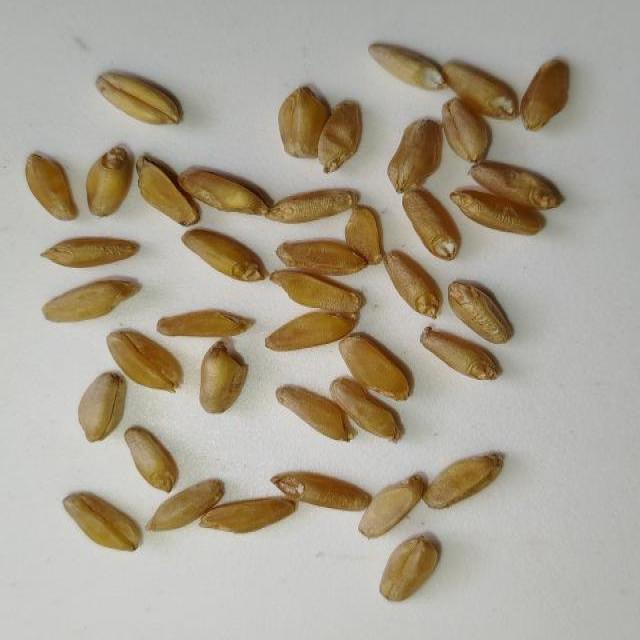wheat_grain: (340, 333, 410, 399), (469, 160, 563, 209), (107, 331, 182, 391), (64, 492, 141, 550), (423, 453, 503, 508), (331, 377, 401, 439), (183, 228, 264, 281), (96, 72, 180, 123), (450, 189, 544, 234), (138, 155, 198, 225), (442, 61, 516, 117), (178, 168, 268, 214), (276, 386, 353, 439), (43, 279, 140, 321), (421, 327, 498, 379), (359, 475, 423, 537), (403, 189, 459, 259), (270, 270, 363, 312), (449, 281, 512, 343), (147, 479, 223, 530), (271, 471, 370, 510), (387, 119, 439, 191), (385, 251, 441, 317), (380, 536, 438, 598), (279, 87, 329, 157), (369, 45, 446, 89), (125, 426, 177, 491), (200, 341, 247, 412), (26, 153, 76, 219), (201, 497, 295, 532), (265, 312, 356, 348), (521, 59, 567, 130), (78, 373, 125, 441), (86, 147, 132, 216), (267, 189, 358, 223), (319, 100, 361, 172), (442, 98, 490, 161), (277, 241, 367, 274), (41, 237, 138, 267), (157, 309, 253, 336)
